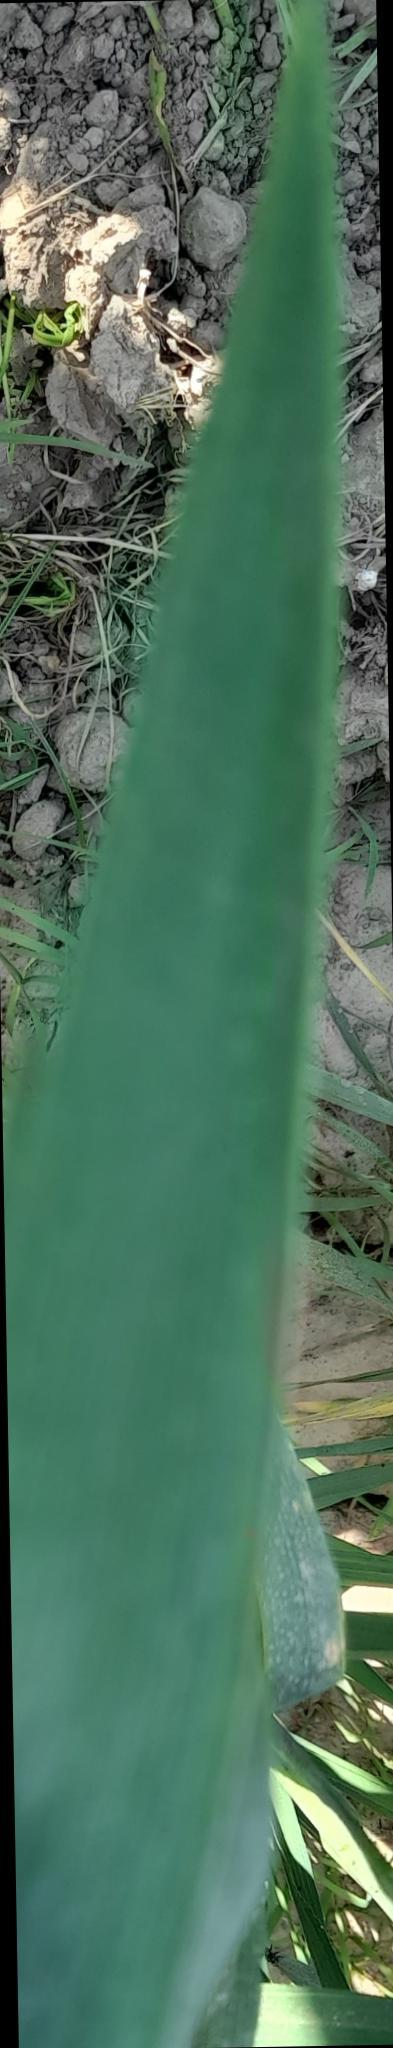Wheat: (24, 1155, 235, 2030), (114, 835, 278, 1131), (174, 458, 302, 801)
